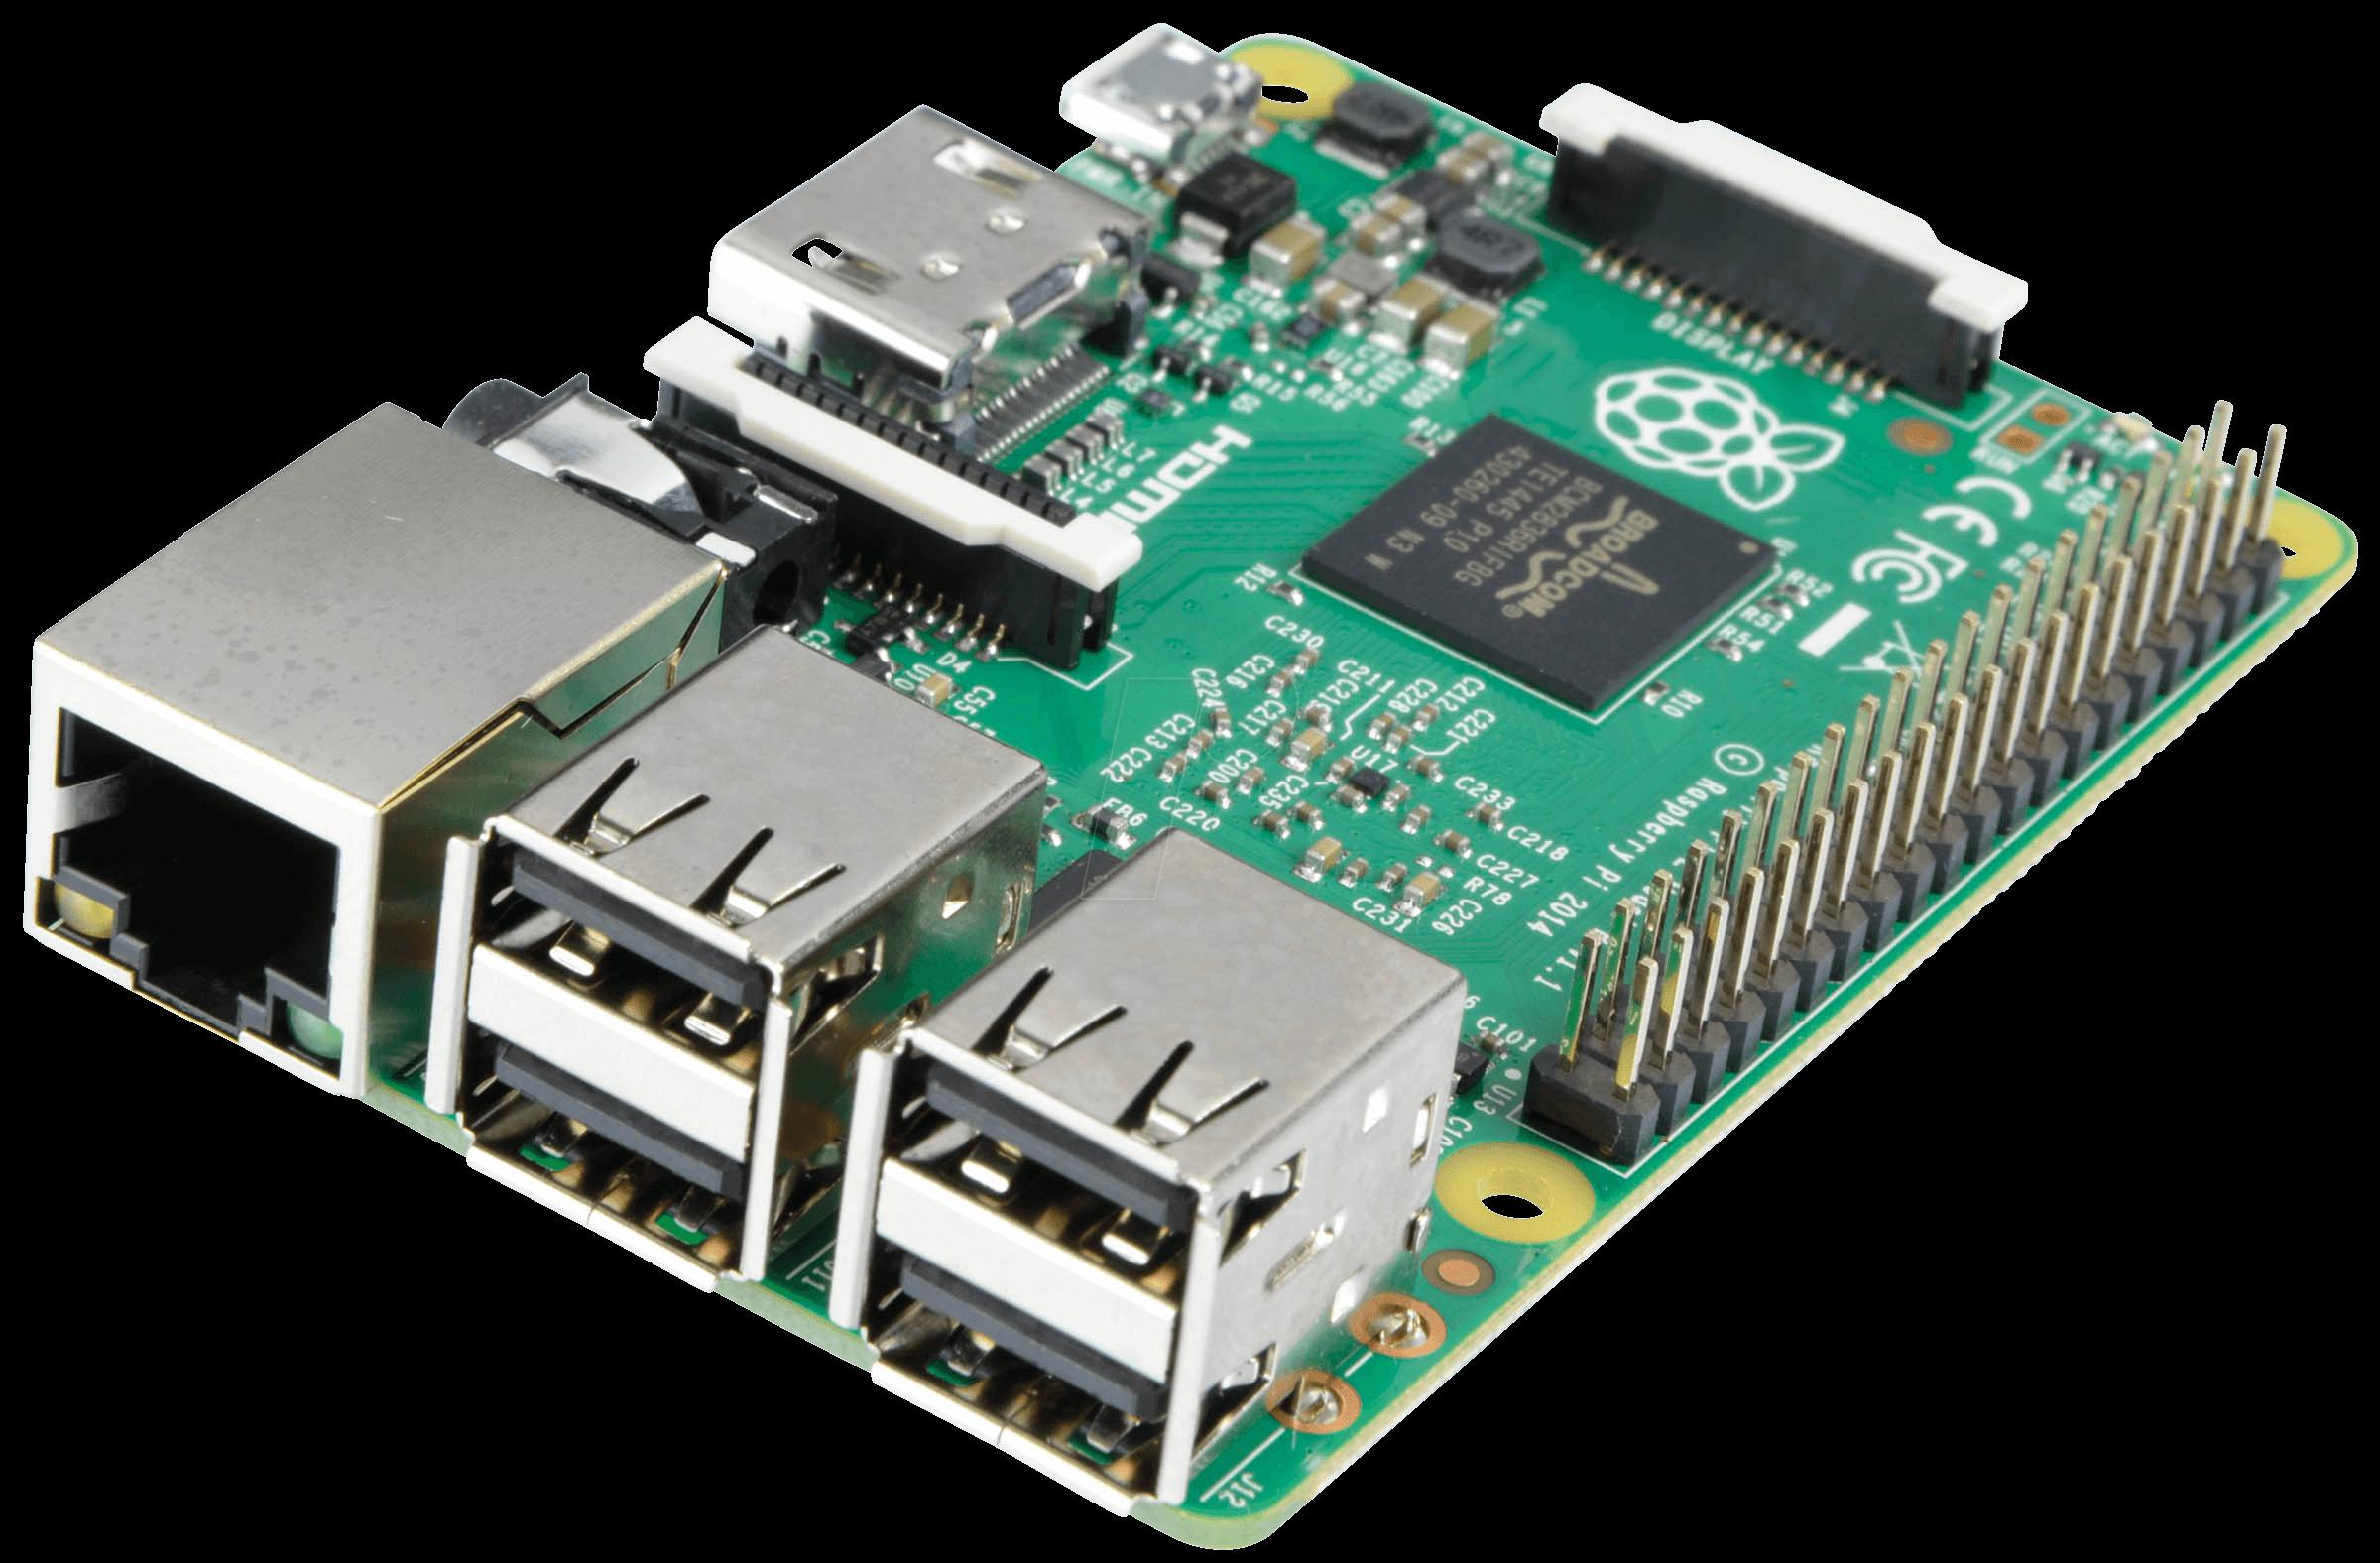bchi: (1311, 406, 1787, 698)
ethernet: (30, 394, 724, 1087)
gpio: (1527, 365, 2310, 1162)
usb: (840, 823, 1466, 1502), (420, 633, 1036, 1282)
